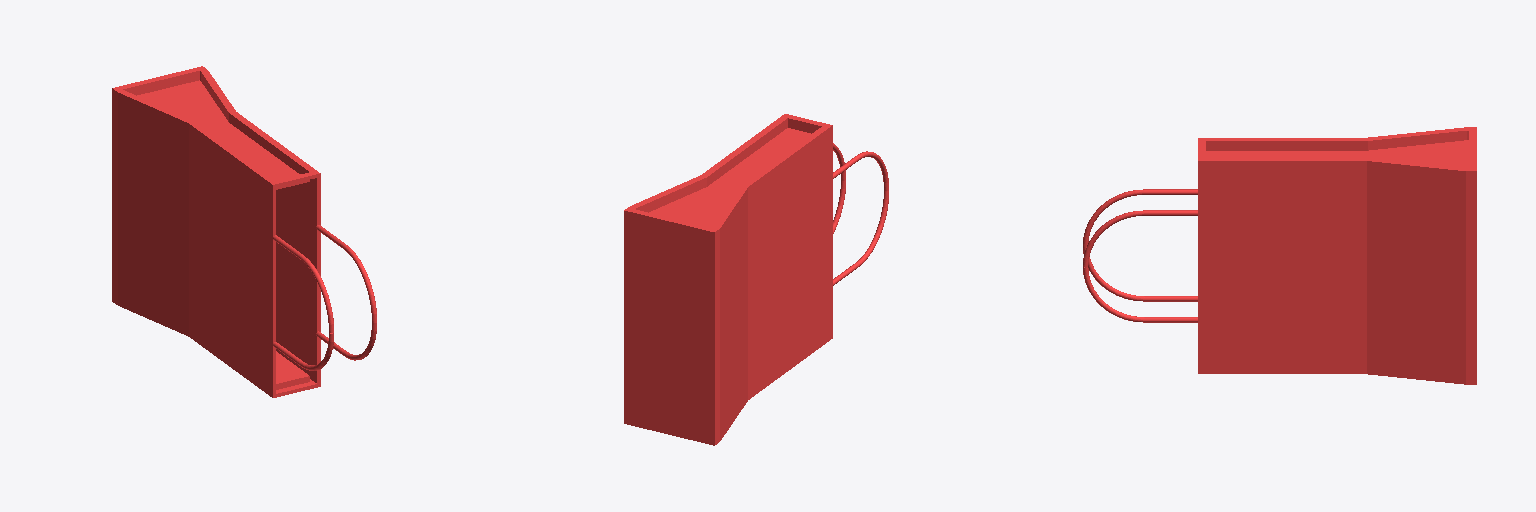
File: cat37_bag.obj
3 views of the same model, side by side, from view 1: azimuth 30°, elevation 25°; view 2: azimuth 150°, elevation 25°; view 3: azimuth 270°, elevation 25° (orthographic).
Parts seen in each view (by area): view 1: Component#34 4, Component#34 2, Component#34 3, Component#34, Component#36 3, Component#36 4; view 2: Component#34 4, Component#34 2, Component#34 3, Component#34, Component#36 2; view 3: Component#34 3, Component#34, Component#34 4, Component#36 3, Component#36 4, Component#36, Component#36 2.
Boxes of the visible parts, x1,y1,x2,y2 form: Component#34 4: [112, 77, 296, 291]; Component#34 2: [112, 195, 296, 397]; Component#34 3: [158, 66, 320, 279]; Component#34: [276, 248, 320, 391]; Component#36 3: [316, 225, 376, 322]; Component#36 4: [273, 235, 333, 332]; Component#34 4: [669, 120, 832, 338]; Component#34 2: [669, 232, 832, 445]; Component#34 3: [624, 114, 808, 327]; Component#34: [624, 317, 668, 434]; Component#36 2: [833, 191, 888, 285]; Component#34 3: [1198, 149, 1476, 277]; Component#34: [1198, 268, 1476, 384]; Component#34 4: [1198, 127, 1476, 158]; Component#36 3: [1083, 210, 1197, 267]; Component#36 4: [1083, 189, 1197, 246]; Component#36: [1083, 267, 1197, 322]; Component#36 2: [1083, 246, 1197, 301].
Size of the model in its own units: 14.06 by 31.69 by 53.1.